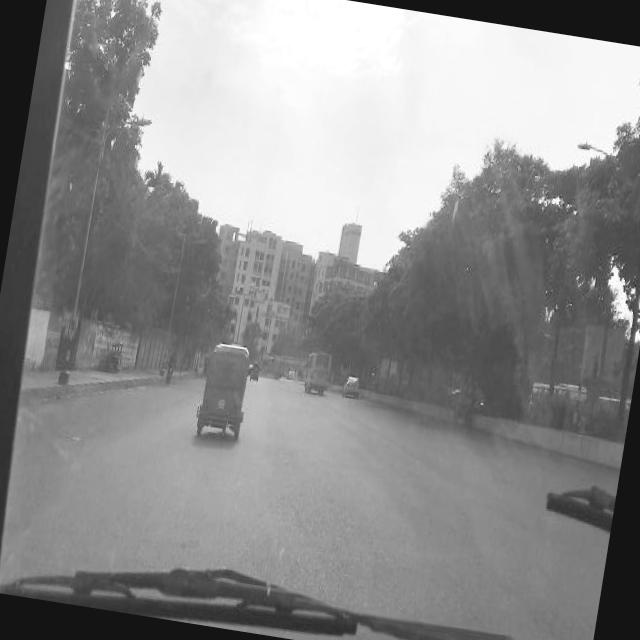bus: (528, 376, 588, 425), (301, 348, 332, 392), (594, 390, 623, 420)
car: (342, 376, 361, 394), (286, 369, 294, 380), (246, 363, 252, 375)
motorcycle: (194, 341, 253, 436), (452, 376, 478, 427), (248, 362, 260, 378)
